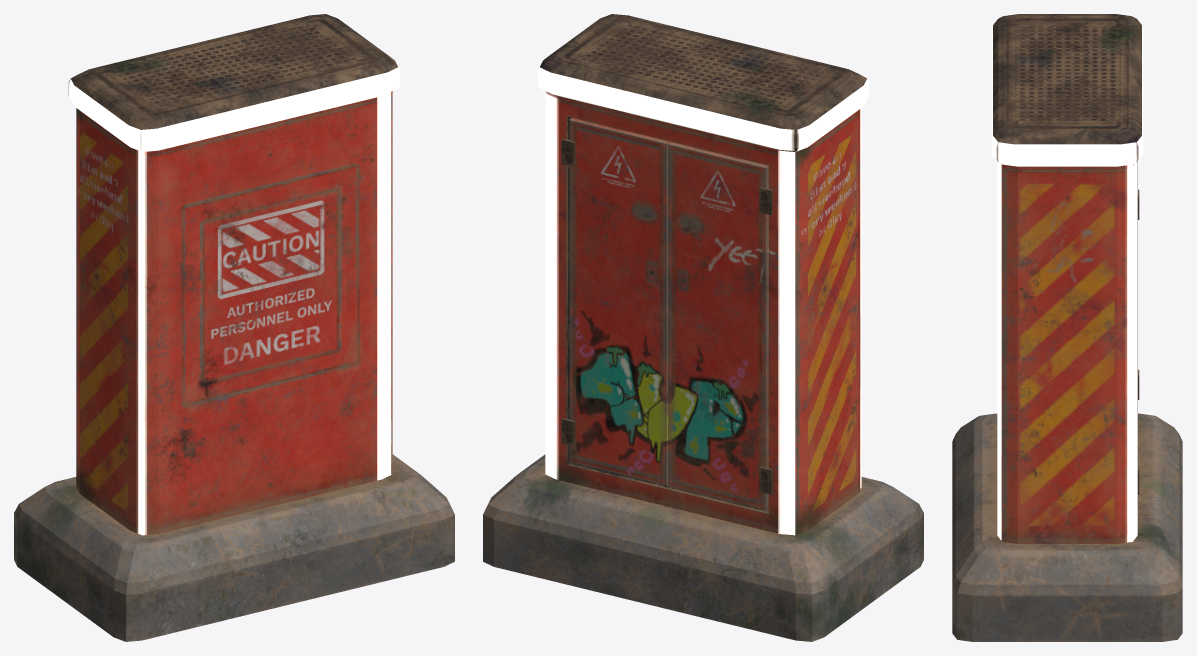
The model's file is FUT0410008.fbx.
3 renders of one model, left to right at view 1: azimuth 30°, elevation 25°; view 2: azimuth 150°, elevation 25°; view 3: azimuth 270°, elevation 25°, orthographic.
Parts seen in each view (by area): view 1: smFUT0410008; view 2: smFUT0410008; view 3: smFUT0410008.
Part boxes in pixels (x1=…): smFUT0410008: x1=14, y1=14, x2=454, y2=641; smFUT0410008: x1=483, y1=14, x2=923, y2=641; smFUT0410008: x1=952, y1=14, x2=1182, y2=641.
Bounding box in the file's own units: 212 × 296 × 127.
1 material, 1 textured.
